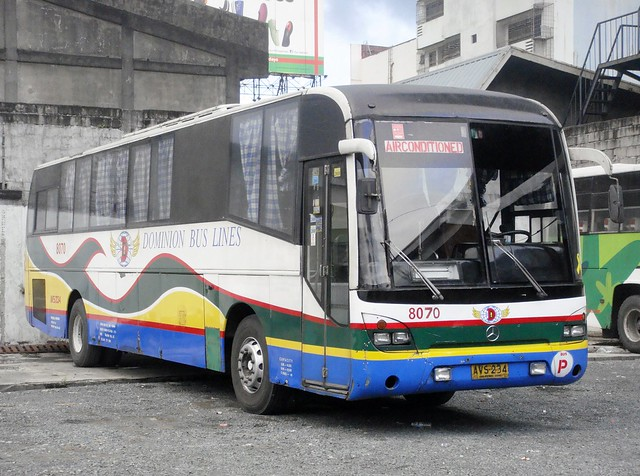bus: (24, 83, 589, 415)
